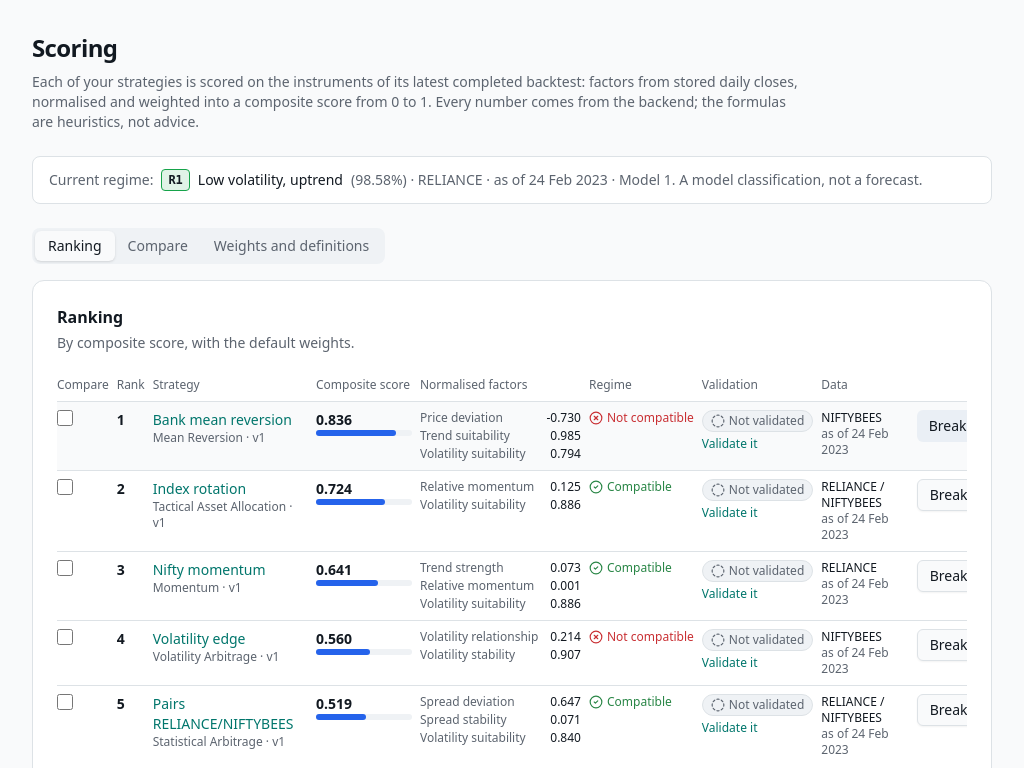
Scenario: ScoringPage › compares two strategies side by side with their latest backtest metrics
Expected: the table named "Strategy ranking" is shown, [57,369,967,766]
Click the checkbox named "Compare Bank mean reversion" at coordinates (65, 418), box [57,410,73,426]
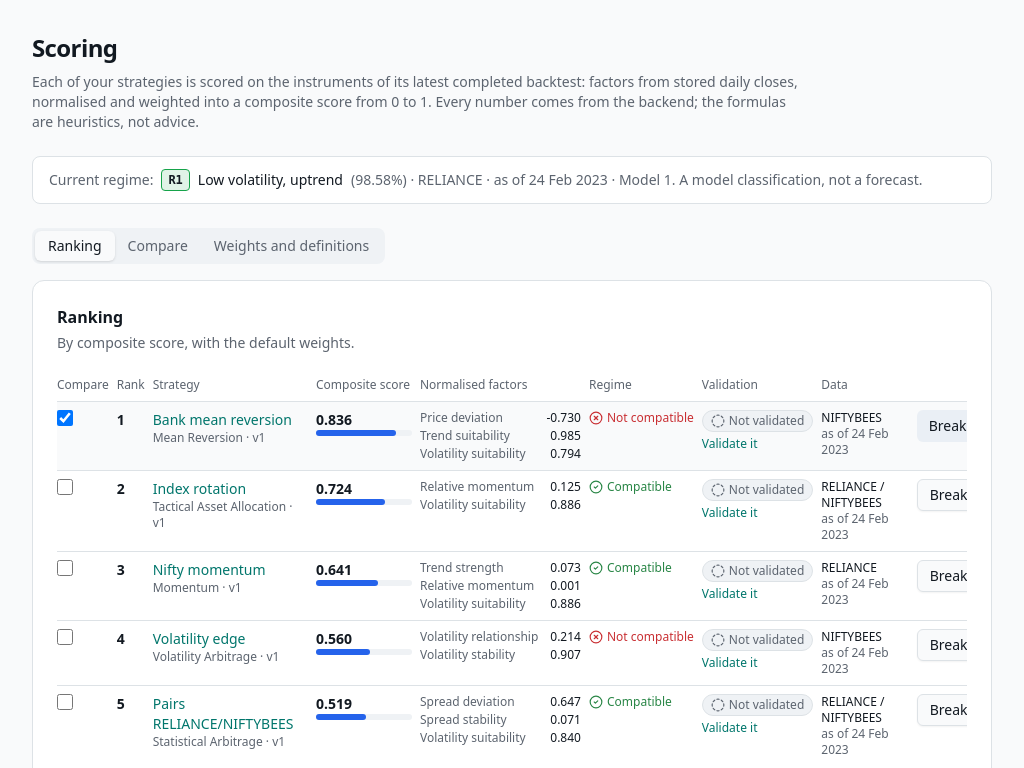
Click the checkbox named "Compare Nifty momentum" at coordinates (65, 568), box [57,560,73,576]
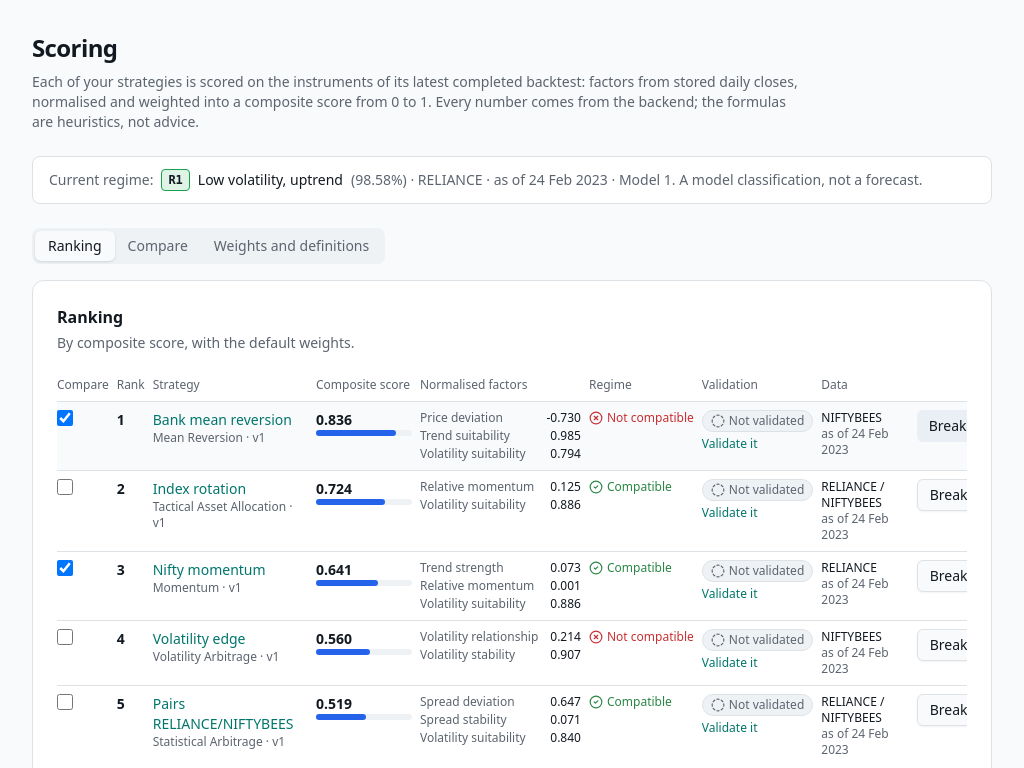
Press the mouse on the tab "Compare" at coordinates (158, 246), box [115,231,201,261]
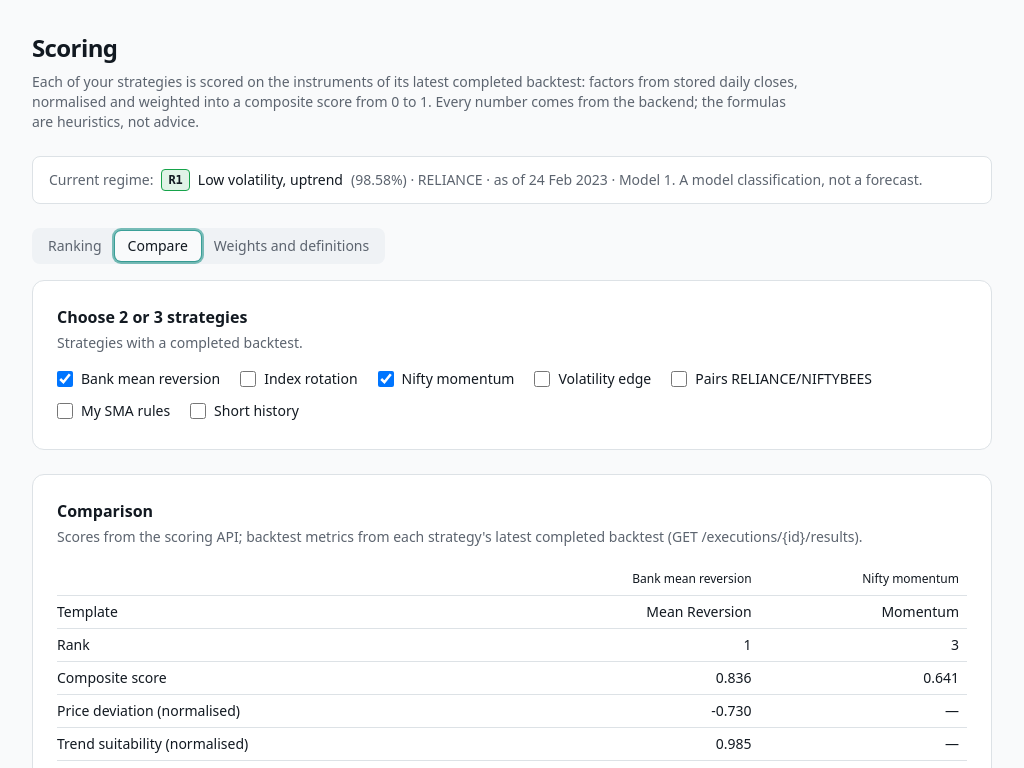
Click the checkbox labelled "Volatility edge" at coordinates (542, 379), box [534,371,550,387]
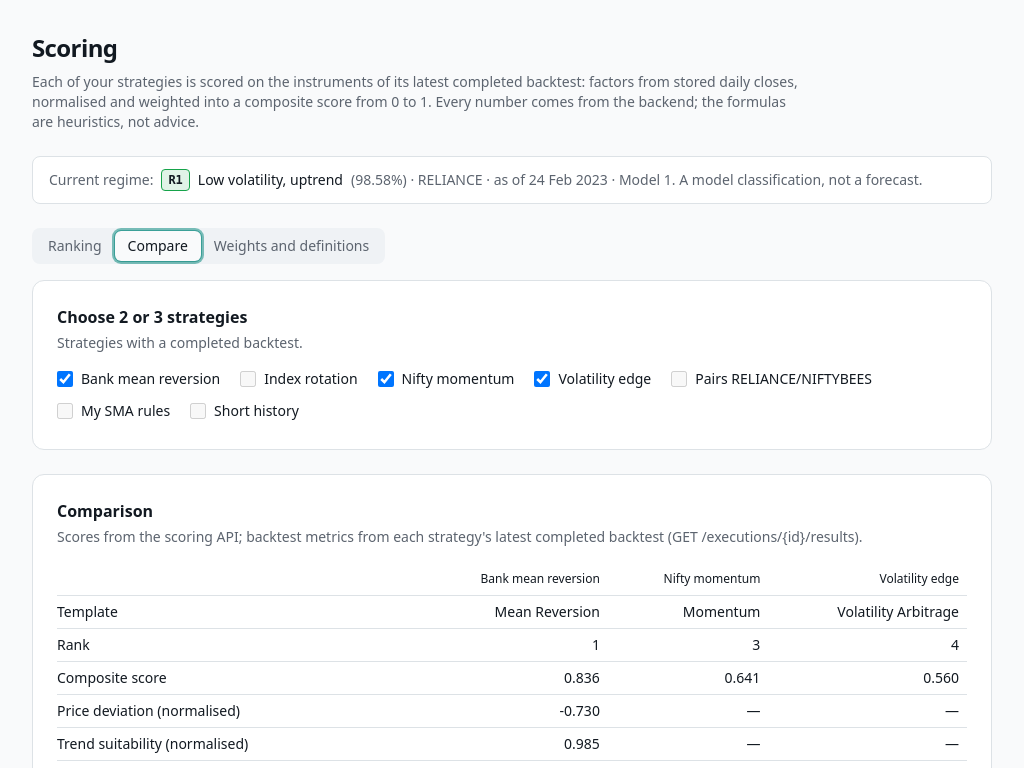
Now the checkbox labelled "Pairs RELIANCE/NIFTYBEES" is disabled, box [671,371,687,387]
